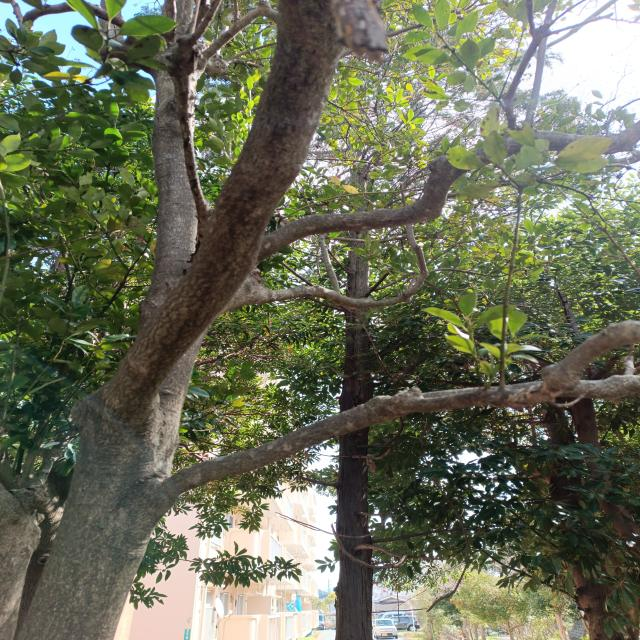Branch: (103, 0, 388, 425), (164, 379, 558, 493), (139, 42, 205, 332)
Twig: (261, 123, 638, 261), (226, 224, 428, 312), (541, 322, 640, 399), (23, 0, 169, 42), (202, 0, 280, 64), (180, 1, 223, 42), (173, 1, 196, 37)
